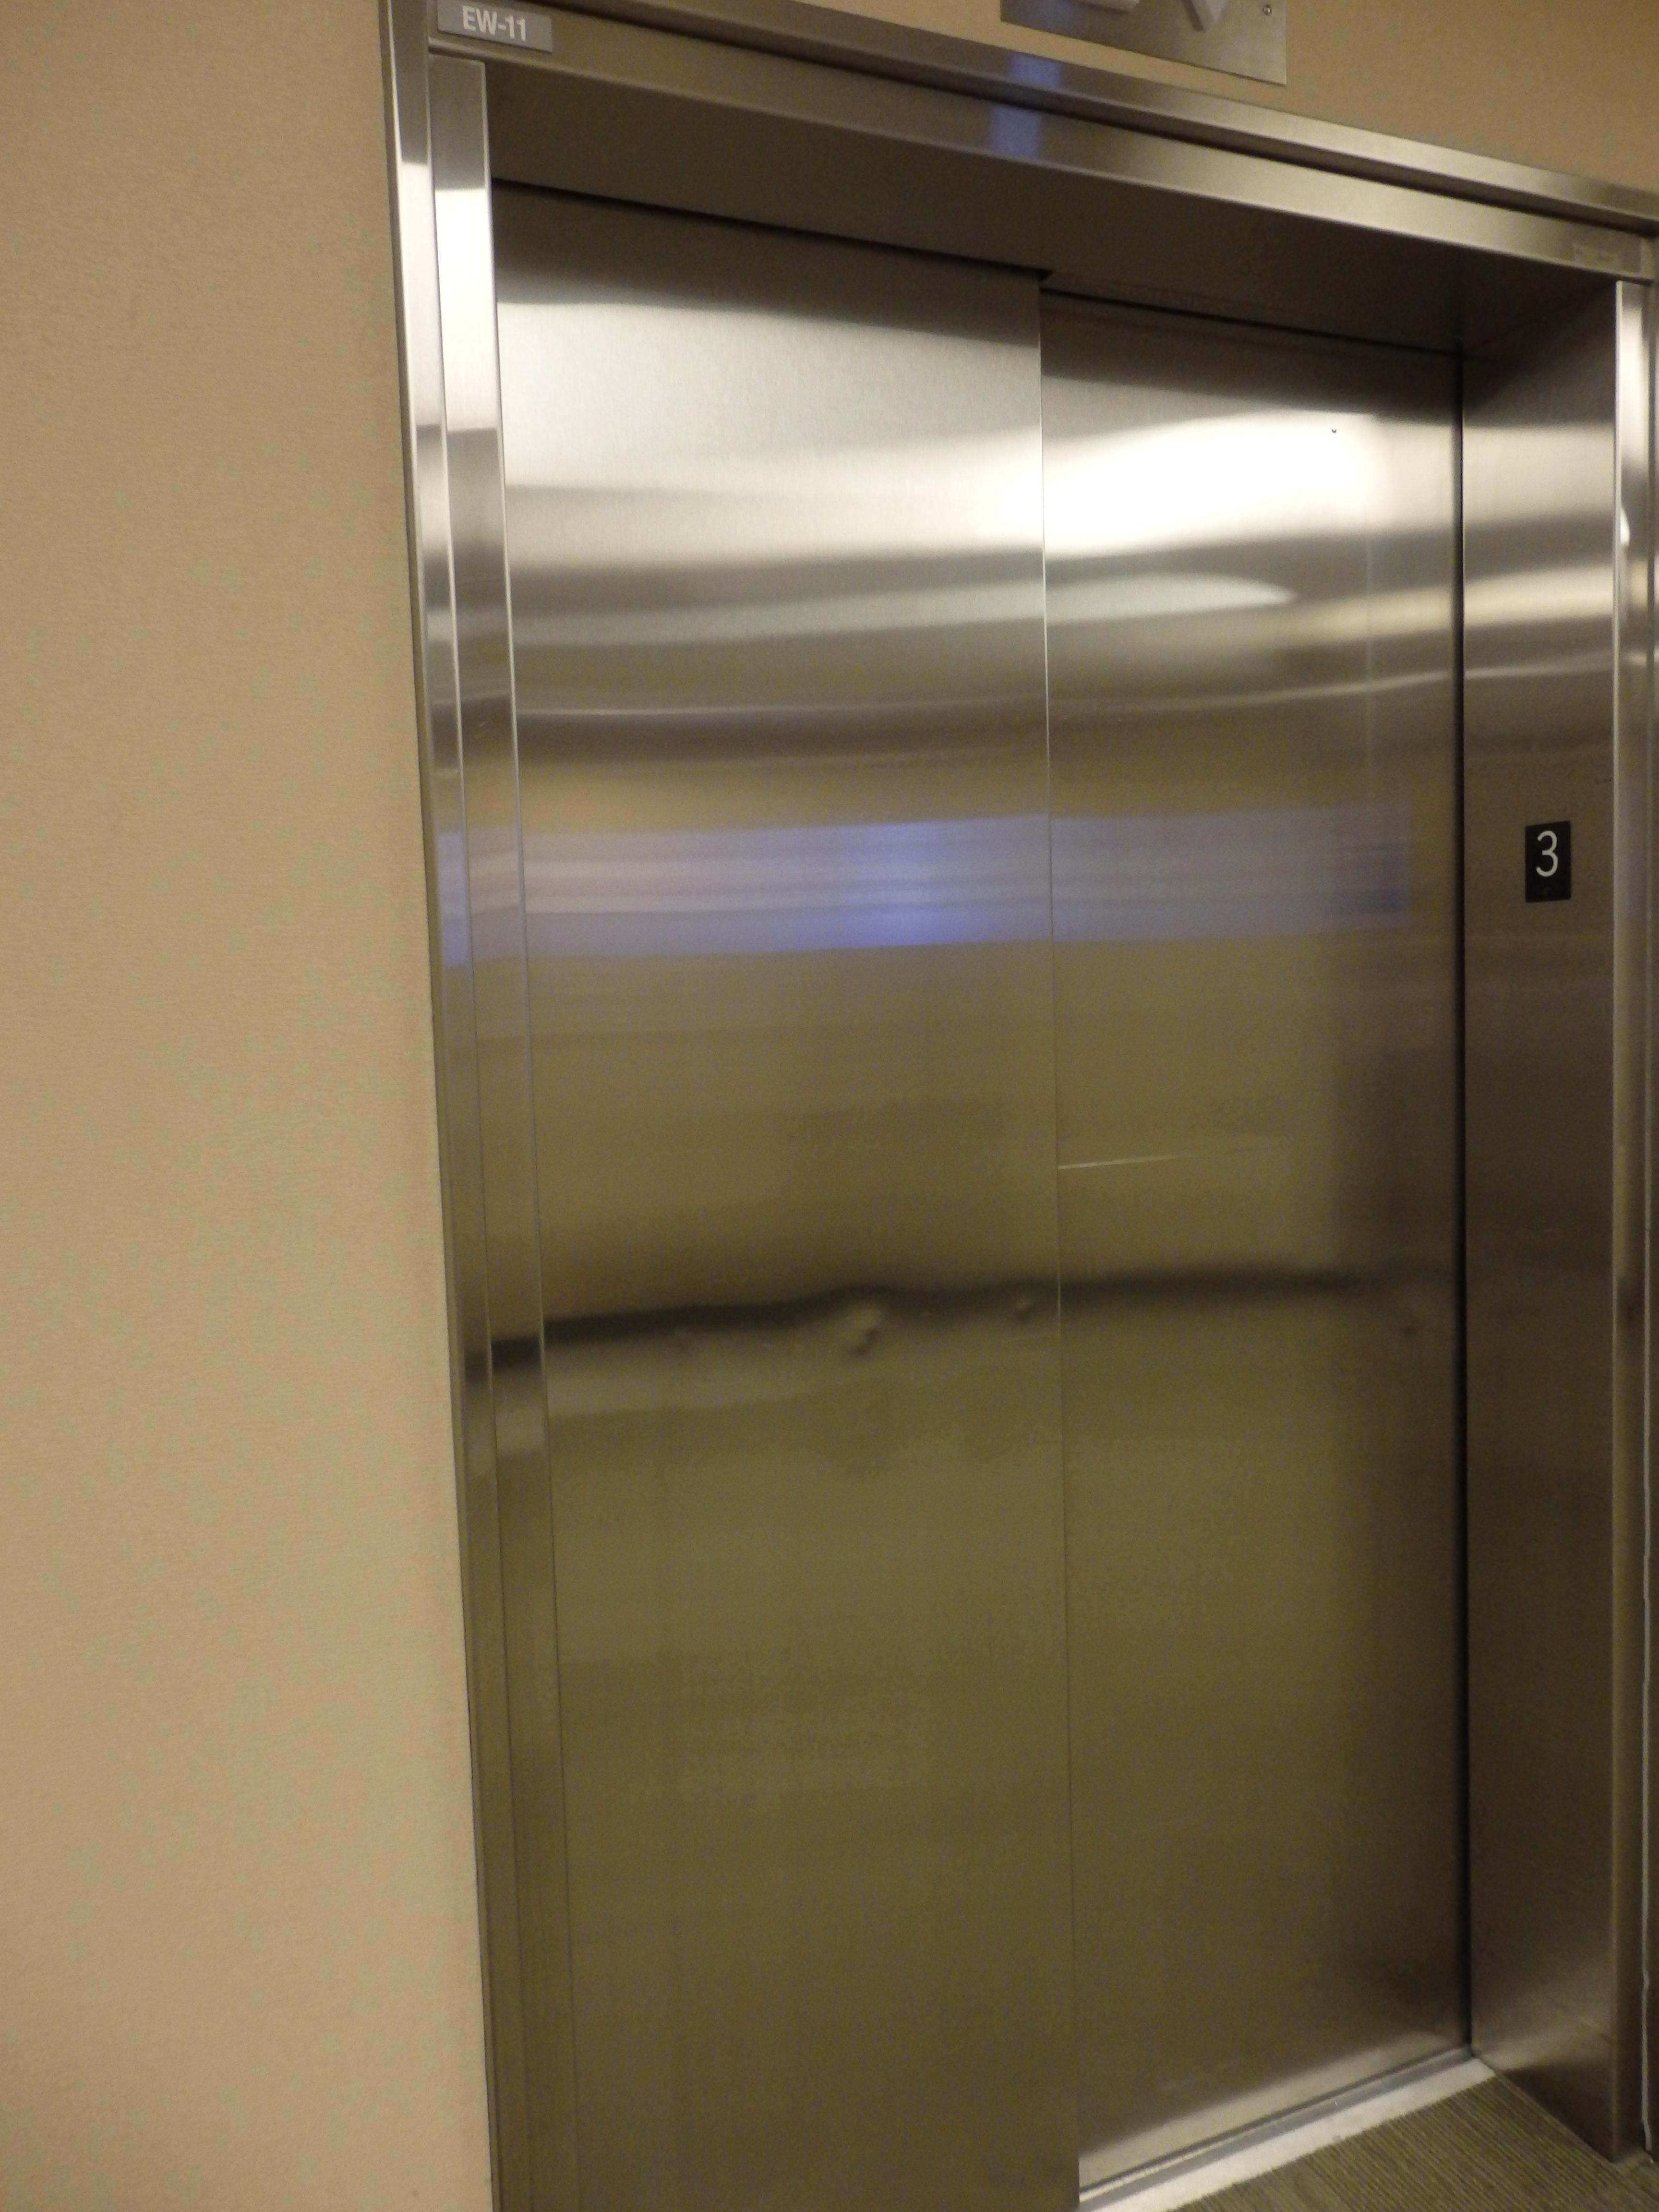door: (465, 51, 1516, 2188)
